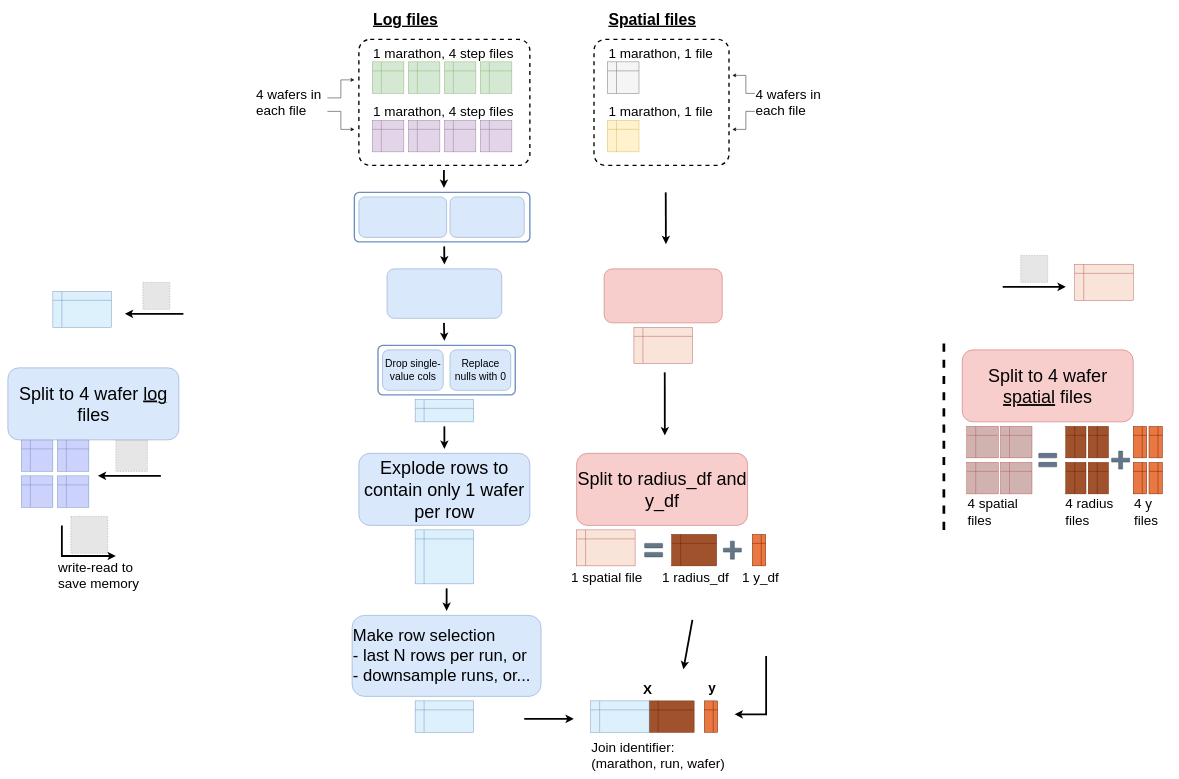
The diagram is 1179 pixels wide and 779 high, and some of its shapes have lost their labels. Grey dashed boxes stand in for pictures. The shapes that lost their labels are listed below. From the top down, each one's centre as x and y in pixels, then its label:
At point (402, 216): "Remove marathon runs not in spatial files".
At point (487, 216): "Add marathon + step cols".
At point (444, 293): "Combine to 1 master log df".
At point (663, 295): "Combine to 1 master spatial df".
